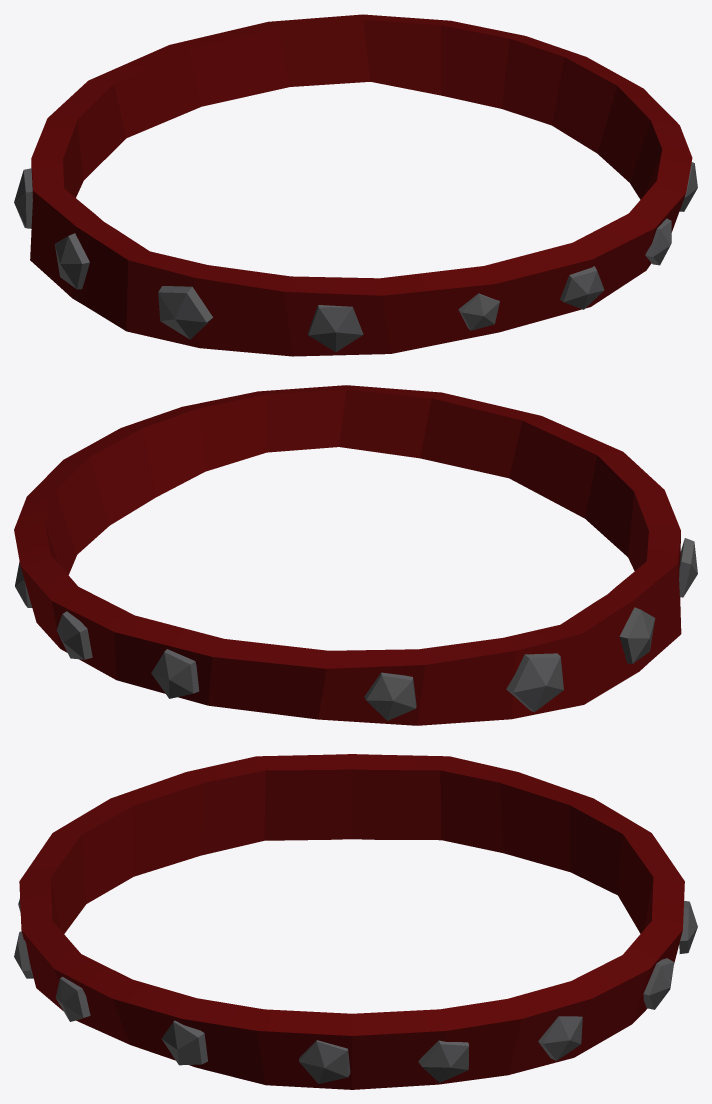
The model's file is NeckRedCollar.FBX.
3 renders of one model, top to bottom at view 1: azimuth 30°, elevation 25°; view 2: azimuth 150°, elevation 25°; view 3: azimuth 270°, elevation 25°, orthographic.
Parts seen in each view (by area): view 1: Object301; view 2: Object301; view 3: Object301.
Boxes of the visible parts, <box> form: Object301: <box>14,14,697,356</box>; Object301: <box>14,385,697,725</box>; Object301: <box>14,754,697,1089</box>.
Bounding box in the file's own units: 10.76 × 1.44 × 10.73.
